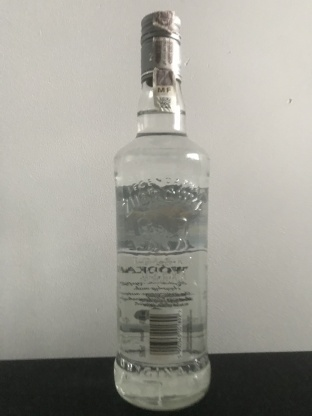nakretka: (138, 8, 183, 88)
